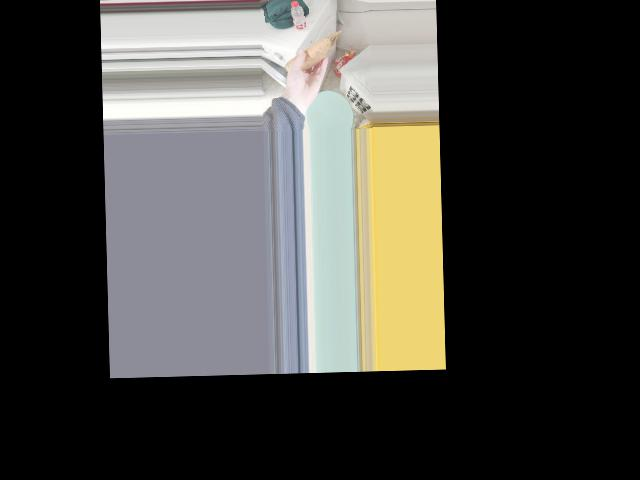sweet_potato: (286, 45, 323, 77)
